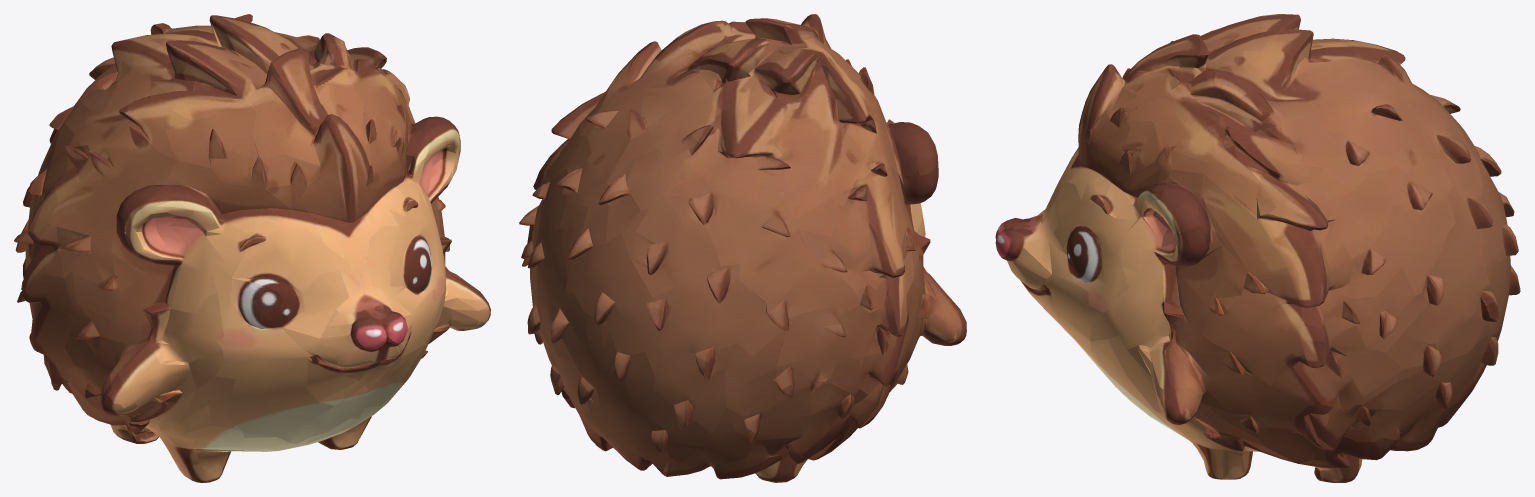
Rendered from pet_prickles.glb.
3 renders of one model, left to right at view 1: azimuth 30°, elevation 25°; view 2: azimuth 150°, elevation 25°; view 3: azimuth 270°, elevation 25°, orthographic. The views are drawn at different scales.
Bounding box in the file's own units: 1.61 × 1.63 × 1.9.
Materials: 1 (1 with a texture image).
